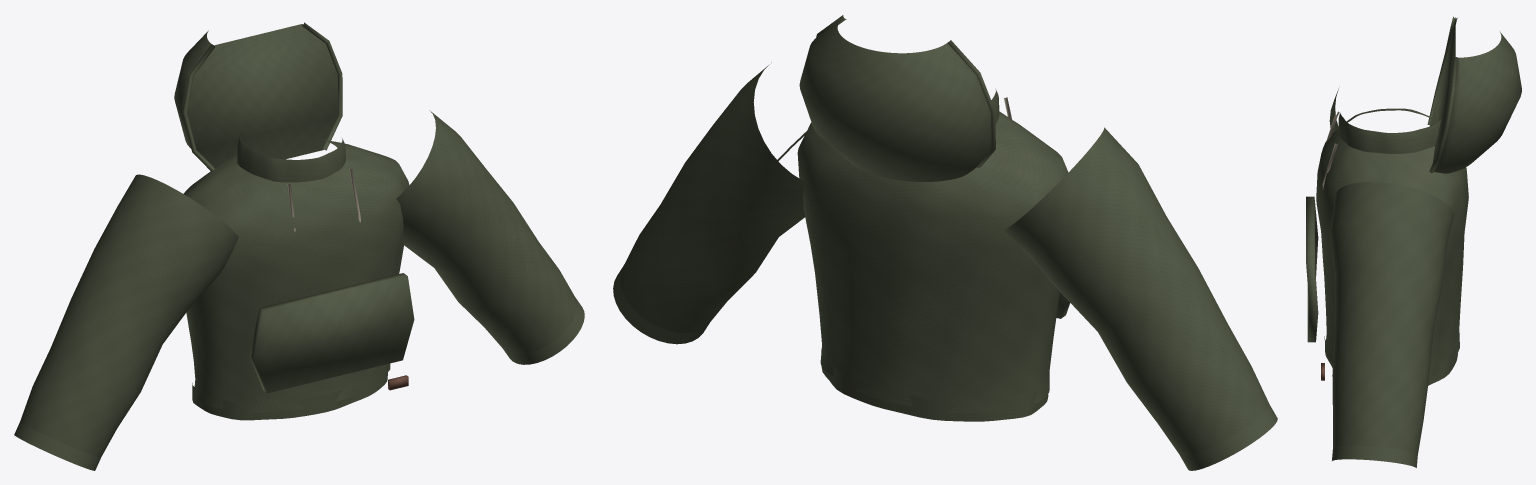
Rendered from PZ_Survivor_02_Hoodie_Moss.glb.
The picture shows the model from 3 angles, left to right: view 1: azimuth 30°, elevation 25°; view 2: azimuth 150°, elevation 25°; view 3: azimuth 270°, elevation 25°; orthographic projection. The views are drawn at different scales.
Visible parts, largest first — view 1: Torso_Cloth_Shell, Sleeve_L_Fabric, Sleeve_R_Fabric, Hood_Folded_Shell, Kangaroo_Pouch, Neck_Collar_Roll, Hem_Reinforced_Rib, Sleeve_L_Ribbed_Cuff, Sleeve_R_Ribbed_Cuff, Hood_Right_Front_Rim, Hood_Reinforced_Front_Rim; view 2: Torso_Cloth_Shell, Sleeve_L_Fabric, Sleeve_R_Fabric, Hood_Folded_Shell, Hem_Reinforced_Rib, Sleeve_L_Ribbed_Cuff, Sleeve_R_Ribbed_Cuff, Hood_Right_Front_Rim; view 3: Sleeve_R_Fabric, Torso_Cloth_Shell, Hood_Folded_Shell, Neck_Collar_Roll, Kangaroo_Pouch, Sleeve_R_Ribbed_Cuff, Hood_Reinforced_Front_Rim, Hem_Reinforced_Rib, Hood_Right_Front_Rim.
Boxes of the visible parts, <box> form: Torso_Cloth_Shell: <box>183,138,409,412</box>; Sleeve_L_Fabric: <box>20,174,238,457</box>; Sleeve_R_Fabric: <box>396,110,577,354</box>; Hood_Folded_Shell: <box>174,24,338,168</box>; Kangaroo_Pouch: <box>249,273,414,393</box>; Neck_Collar_Roll: <box>237,134,345,182</box>; Hem_Reinforced_Rib: <box>192,364,388,420</box>; Sleeve_L_Ribbed_Cuff: <box>14,422,100,470</box>; Sleeve_R_Ribbed_Cuff: <box>503,298,584,364</box>; Hood_Right_Front_Rim: <box>182,44,214,171</box>; Hood_Reinforced_Front_Rim: <box>301,22,342,150</box>; Torso_Cloth_Shell: <box>797,111,1068,413</box>; Sleeve_L_Fabric: <box>1004,127,1269,456</box>; Sleeve_R_Fabric: <box>620,62,806,333</box>; Hood_Folded_Shell: <box>799,19,991,181</box>; Hem_Reinforced_Rib: <box>821,350,1048,421</box>; Sleeve_L_Ribbed_Cuff: <box>1180,404,1277,470</box>; Sleeve_R_Ribbed_Cuff: <box>613,267,709,344</box>; Hood_Right_Front_Rim: <box>948,40,995,167</box>; Sleeve_R_Fabric: <box>1329,182,1453,454</box>; Torso_Cloth_Shell: <box>1316,108,1468,379</box>; Hood_Folded_Shell: <box>1429,17,1521,173</box>; Neck_Collar_Roll: <box>1338,113,1440,153</box>; Kangaroo_Pouch: <box>1306,196,1318,342</box>; Sleeve_R_Ribbed_Cuff: <box>1332,445,1417,467</box>; Hood_Reinforced_Front_Rim: <box>1429,57,1457,173</box>; Hem_Reinforced_Rib: <box>1324,336,1457,385</box>; Hood_Right_Front_Rim: <box>1427,16,1457,124</box>.
Bounding box in the file's own units: 1.32 × 0.7898 × 0.4607.
Materials: 3 (3 with a texture image).
